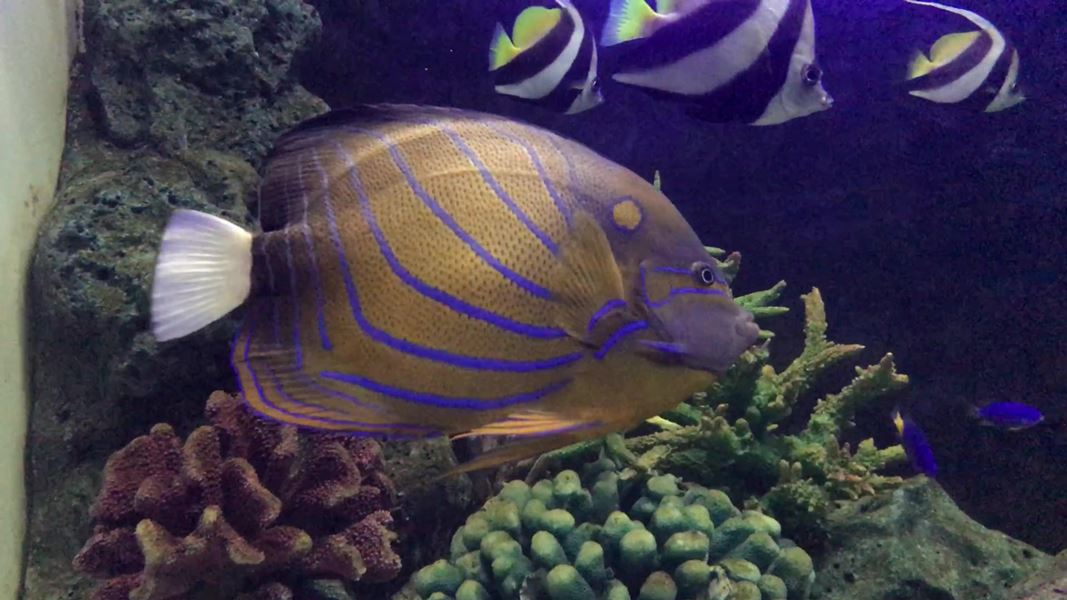Blue ring angelfish: (125, 71, 770, 491)
